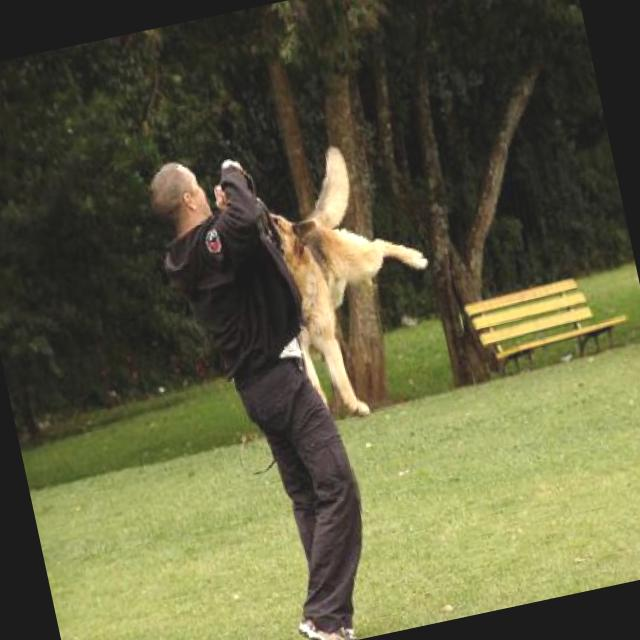Person: (147, 125, 390, 640)
